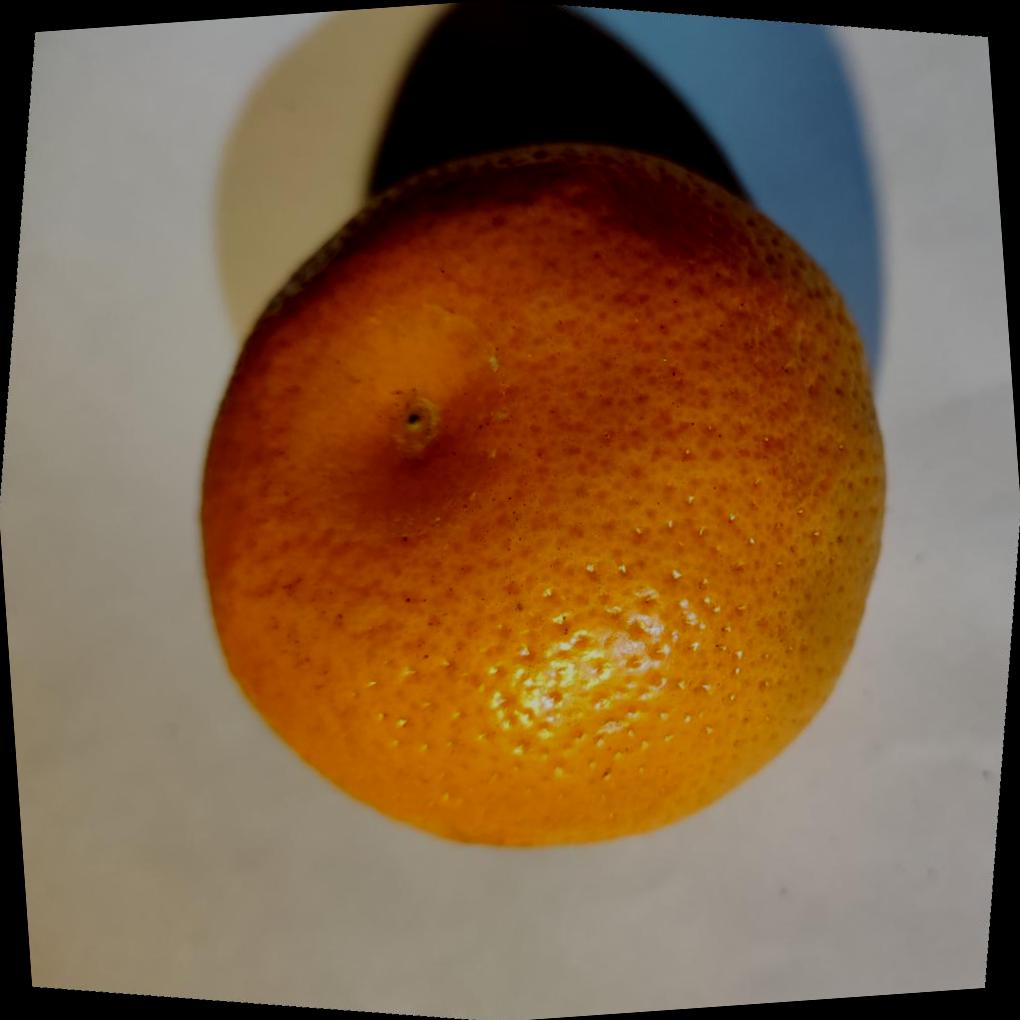FreshGuava: (197, 141, 890, 854)
